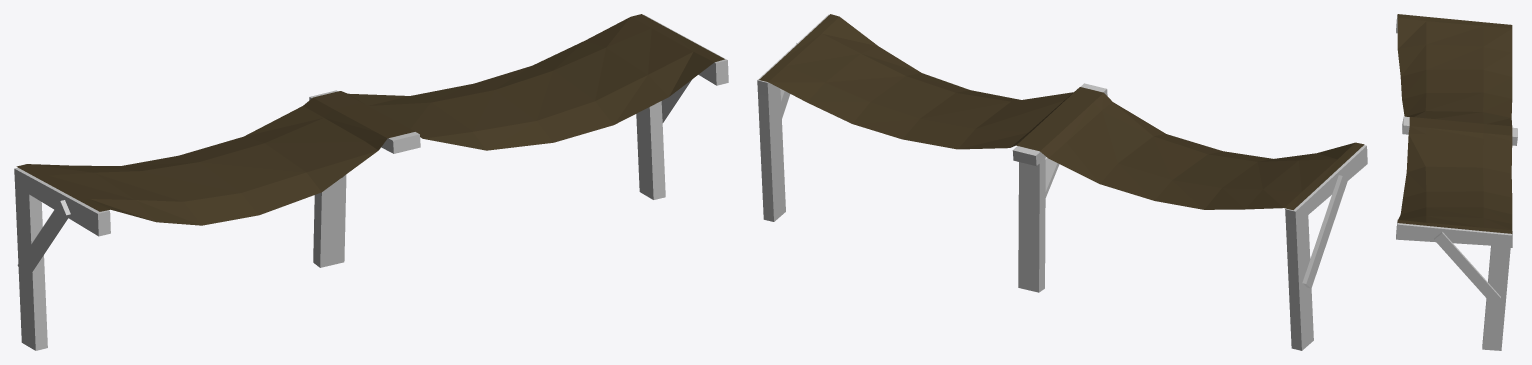
File: NW_CITY_MARKETSTALL_ROOF_01.OBJ
3 views of the same model, side by side, from view 1: azimuth 30°, elevation 25°; view 2: azimuth 150°, elevation 25°; view 3: azimuth 270°, elevation 25° (orthographic). The views are drawn at different scales.
Visible parts, largest first — view 1: NW_CITY_MARKETSTALL_ROOF_01; view 2: NW_CITY_MARKETSTALL_ROOF_01; view 3: NW_CITY_MARKETSTALL_ROOF_01.
Boxes of the visible parts, x1=… form: NW_CITY_MARKETSTALL_ROOF_01: x1=14, y1=14, x2=728, y2=350; NW_CITY_MARKETSTALL_ROOF_01: x1=757, y1=14, x2=1367, y2=350; NW_CITY_MARKETSTALL_ROOF_01: x1=1396, y1=14, x2=1517, y2=350.
Size of the model in its own units: 5.26 by 1.46 by 1.27.
